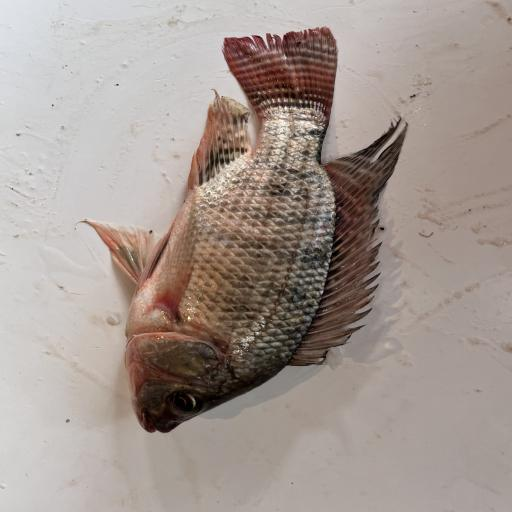Tilapia: (75, 25, 408, 433)
